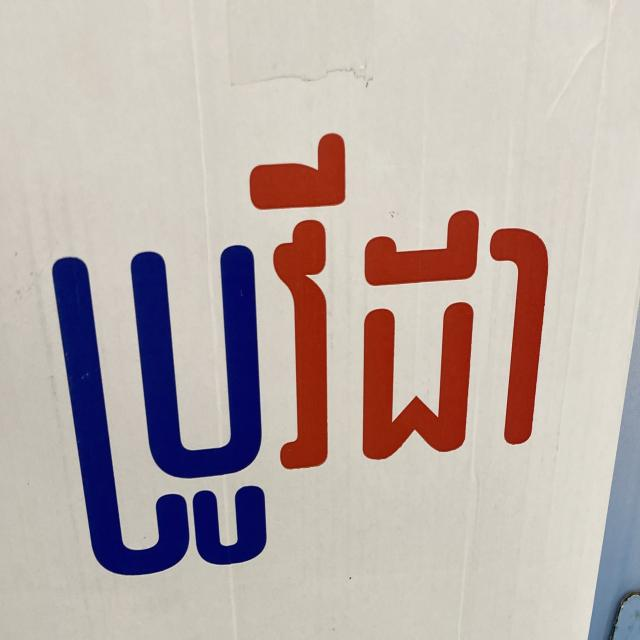Yolov11_80vkh: (28, 98, 567, 605)
